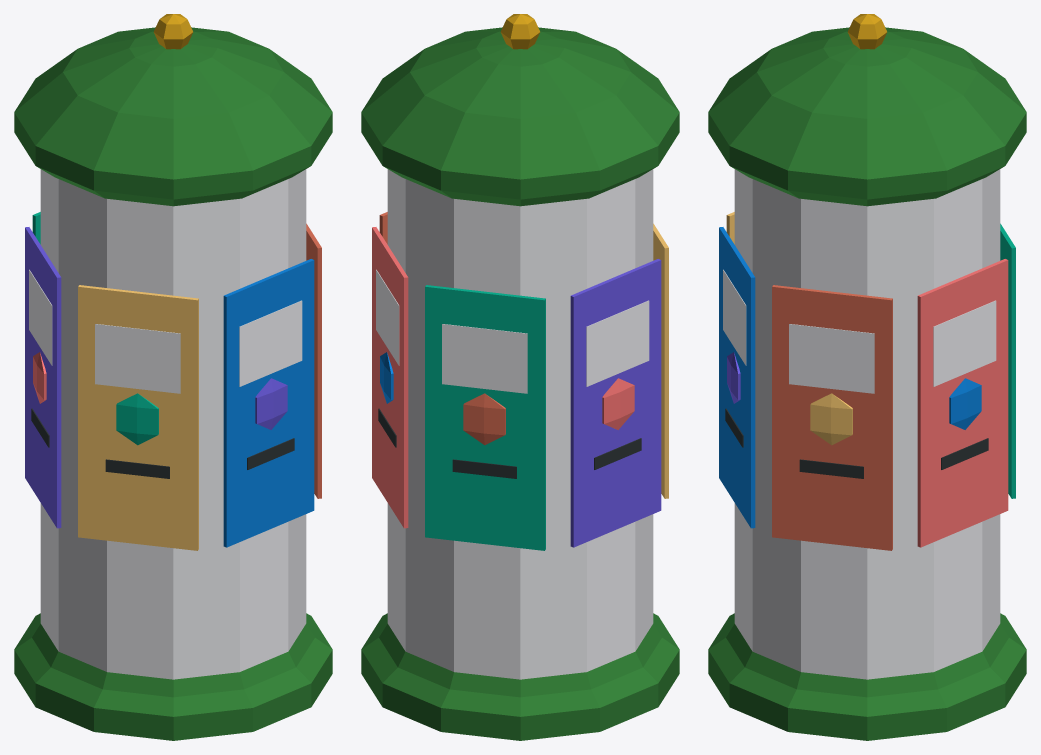
Rendered from litfasssaeule.glb.
3 renders of one model, left to right at view 1: azimuth 30°, elevation 25°; view 2: azimuth 150°, elevation 25°; view 3: azimuth 270°, elevation 25°, orthographic.
Visible parts, largest first — view 1: litfasssaeule-m; view 2: litfasssaeule-m; view 3: litfasssaeule-m.
Part boxes in pixels (box(x1,y1,x2,y2)): litfasssaeule-m: box(14, 14, 332, 740); litfasssaeule-m: box(361, 14, 679, 740); litfasssaeule-m: box(708, 14, 1026, 740).
Bounding box in the file's own units: 1.44 × 3.29 × 1.44.
